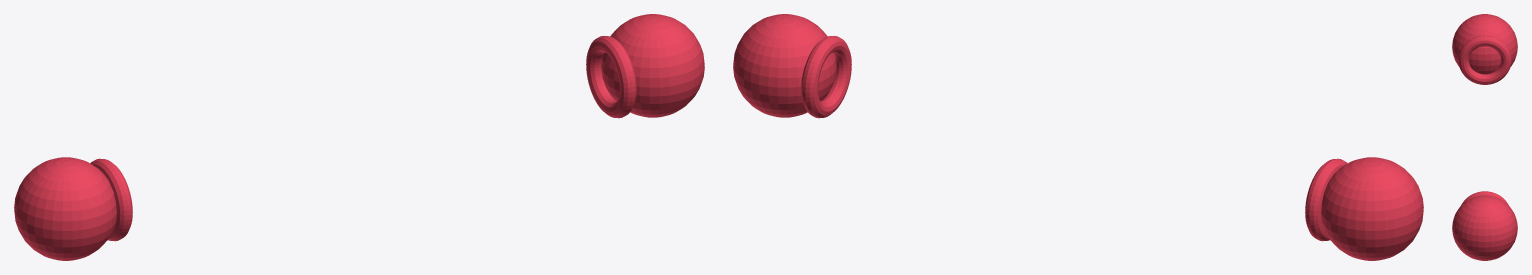
Rendered from Boxing_gloves.fbx.
3 views of the same model, side by side, from view 1: azimuth 30°, elevation 25°; view 2: azimuth 150°, elevation 25°; view 3: azimuth 270°, elevation 25° (orthographic). The views are drawn at different scales.
Visible parts, largest first — view 1: Sphere, Boxing glove; view 2: Sphere, Boxing glove; view 3: Sphere, Boxing glove.
Boxes of the visible parts, bbox=[...] form: Sphere: bbox=[14, 14, 704, 260]; Boxing glove: bbox=[90, 36, 636, 241]; Sphere: bbox=[733, 14, 1423, 260]; Boxing glove: bbox=[801, 36, 1347, 241]; Sphere: bbox=[1452, 14, 1517, 260]; Boxing glove: bbox=[1458, 35, 1511, 205].
Size of the model in its own units: 195 by 25.92 by 25.92.
